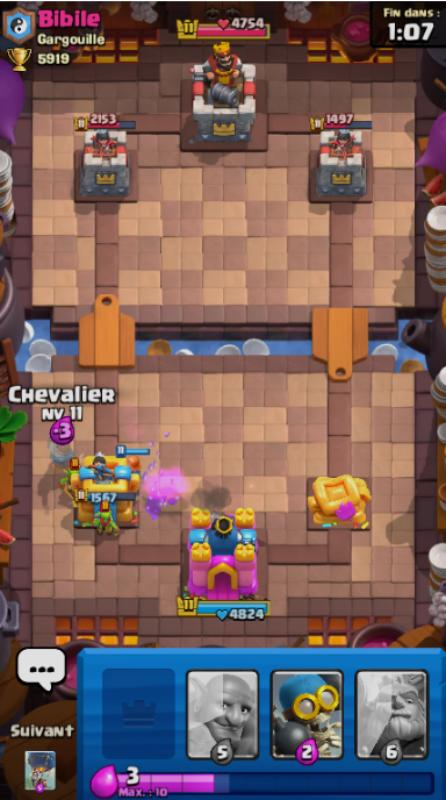chevalier: (42, 428, 82, 480)
gobelin: (90, 496, 124, 546), (66, 456, 88, 502)
valkyrie: (116, 442, 158, 488)
